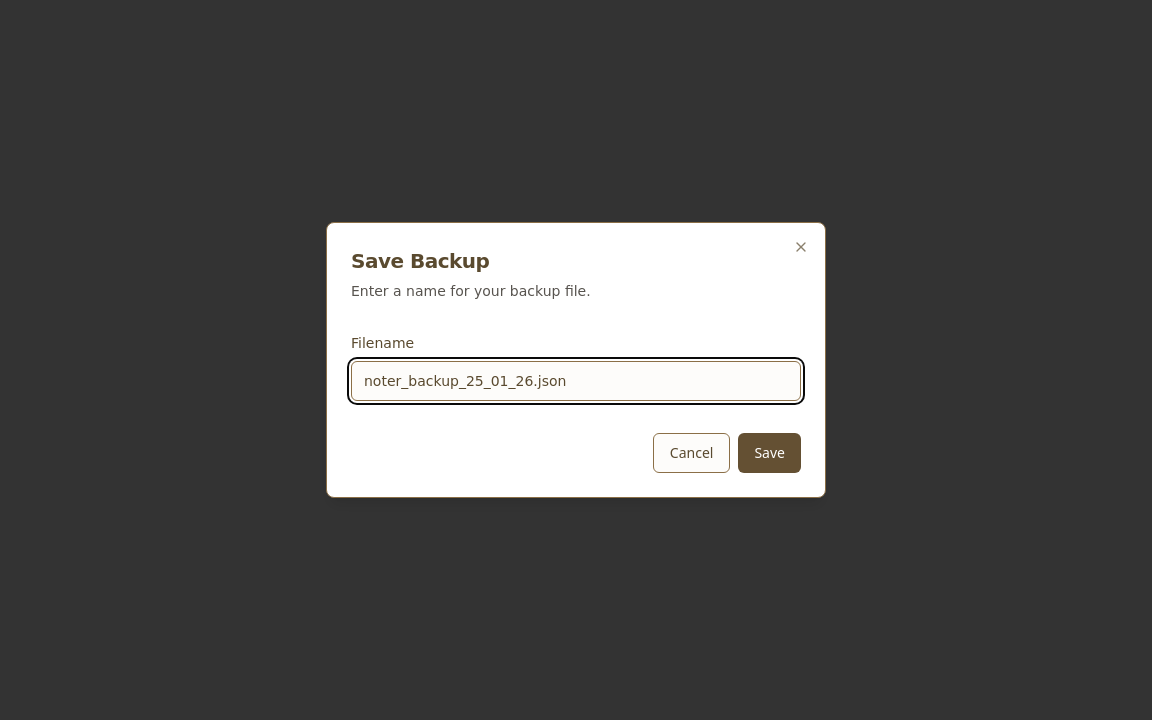
SaveBackupDialog › should disable Save button when filename is empty
This screenshot has width=1152, height=720.
Step 1. Clear the field labelled "Filename" → [576, 381], box [351,361,801,401]
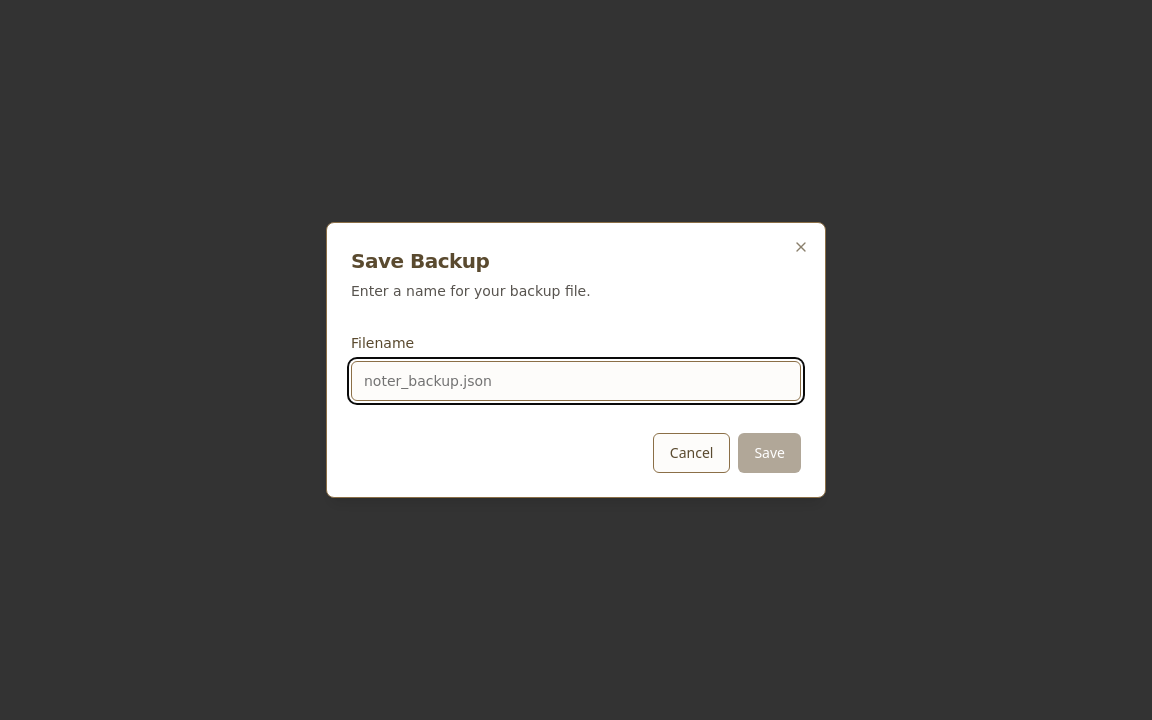
Expected: the button "Save" is disabled, [738,433,801,473]
